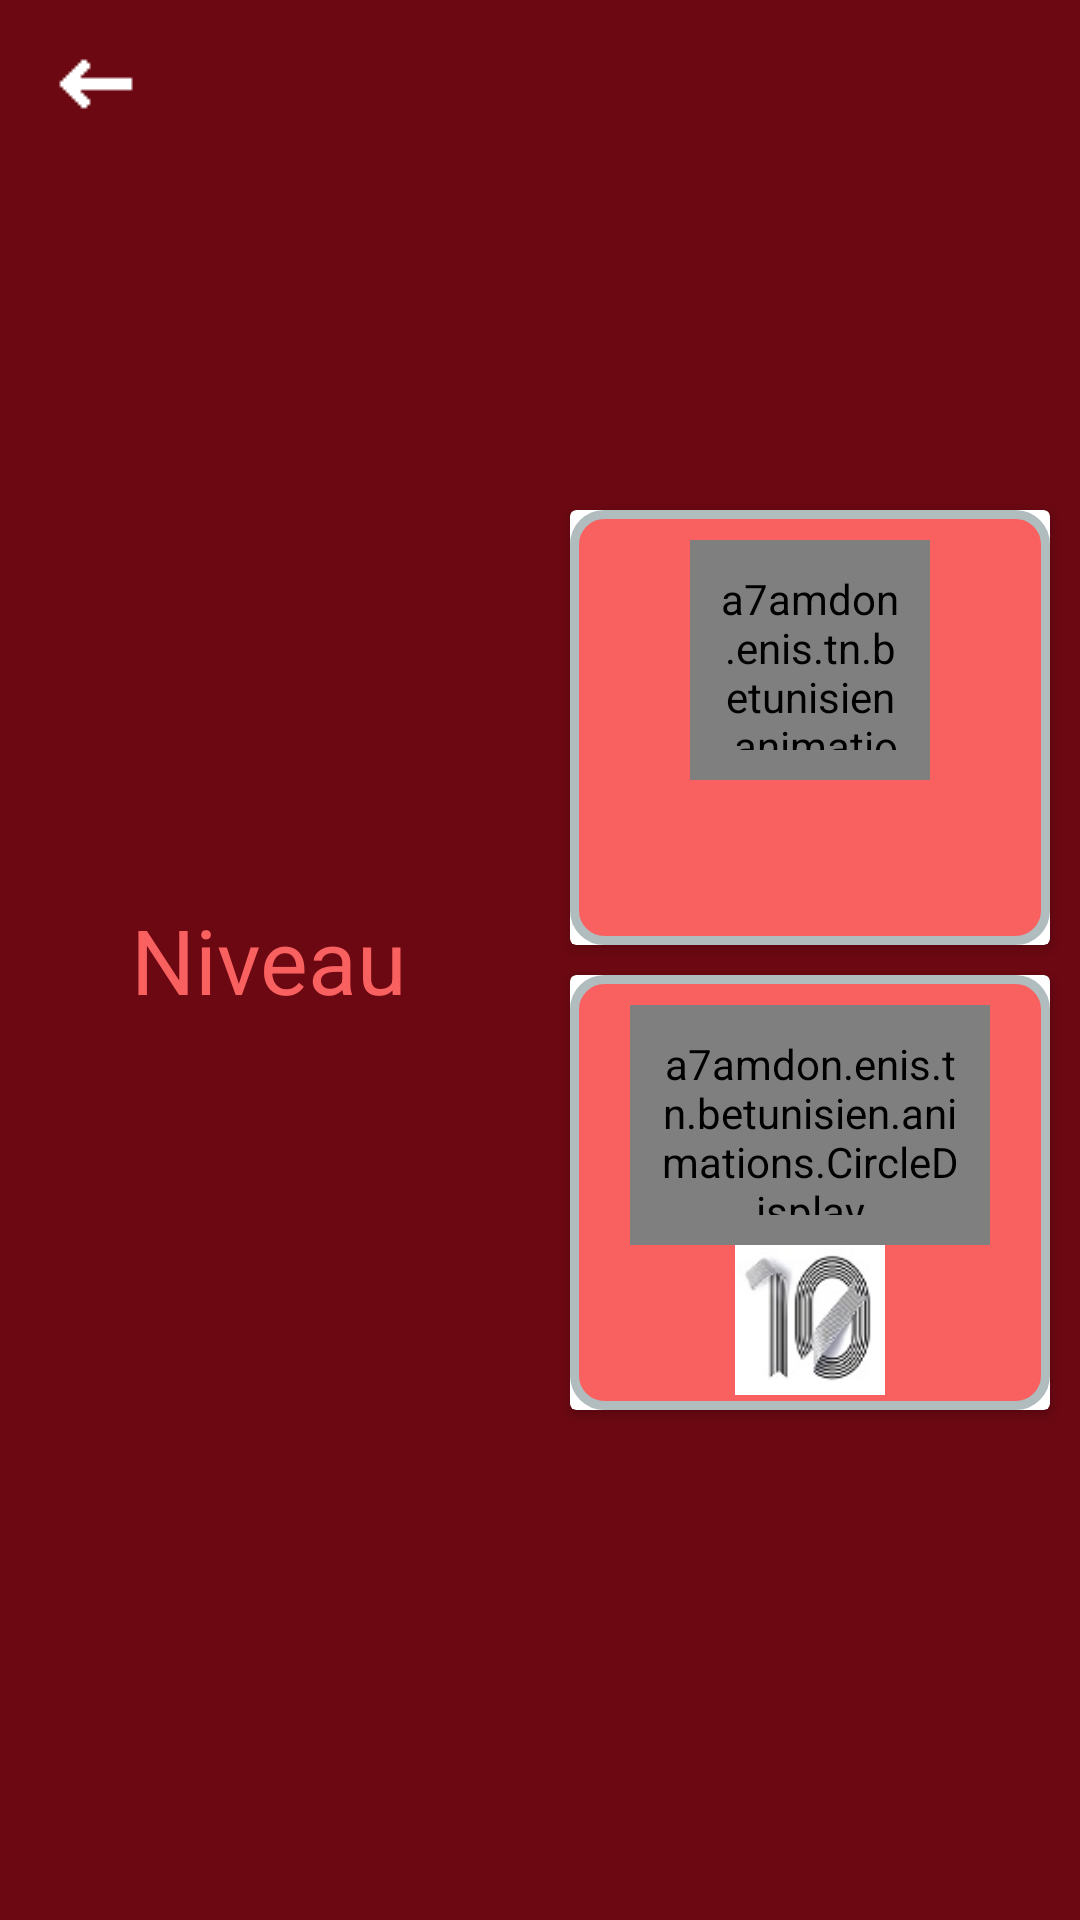

Where icons sit on this 1080w x 1920h app screen, as detection(x1, y1, x2, y2):
icback: detection(59, 59, 133, 109)
